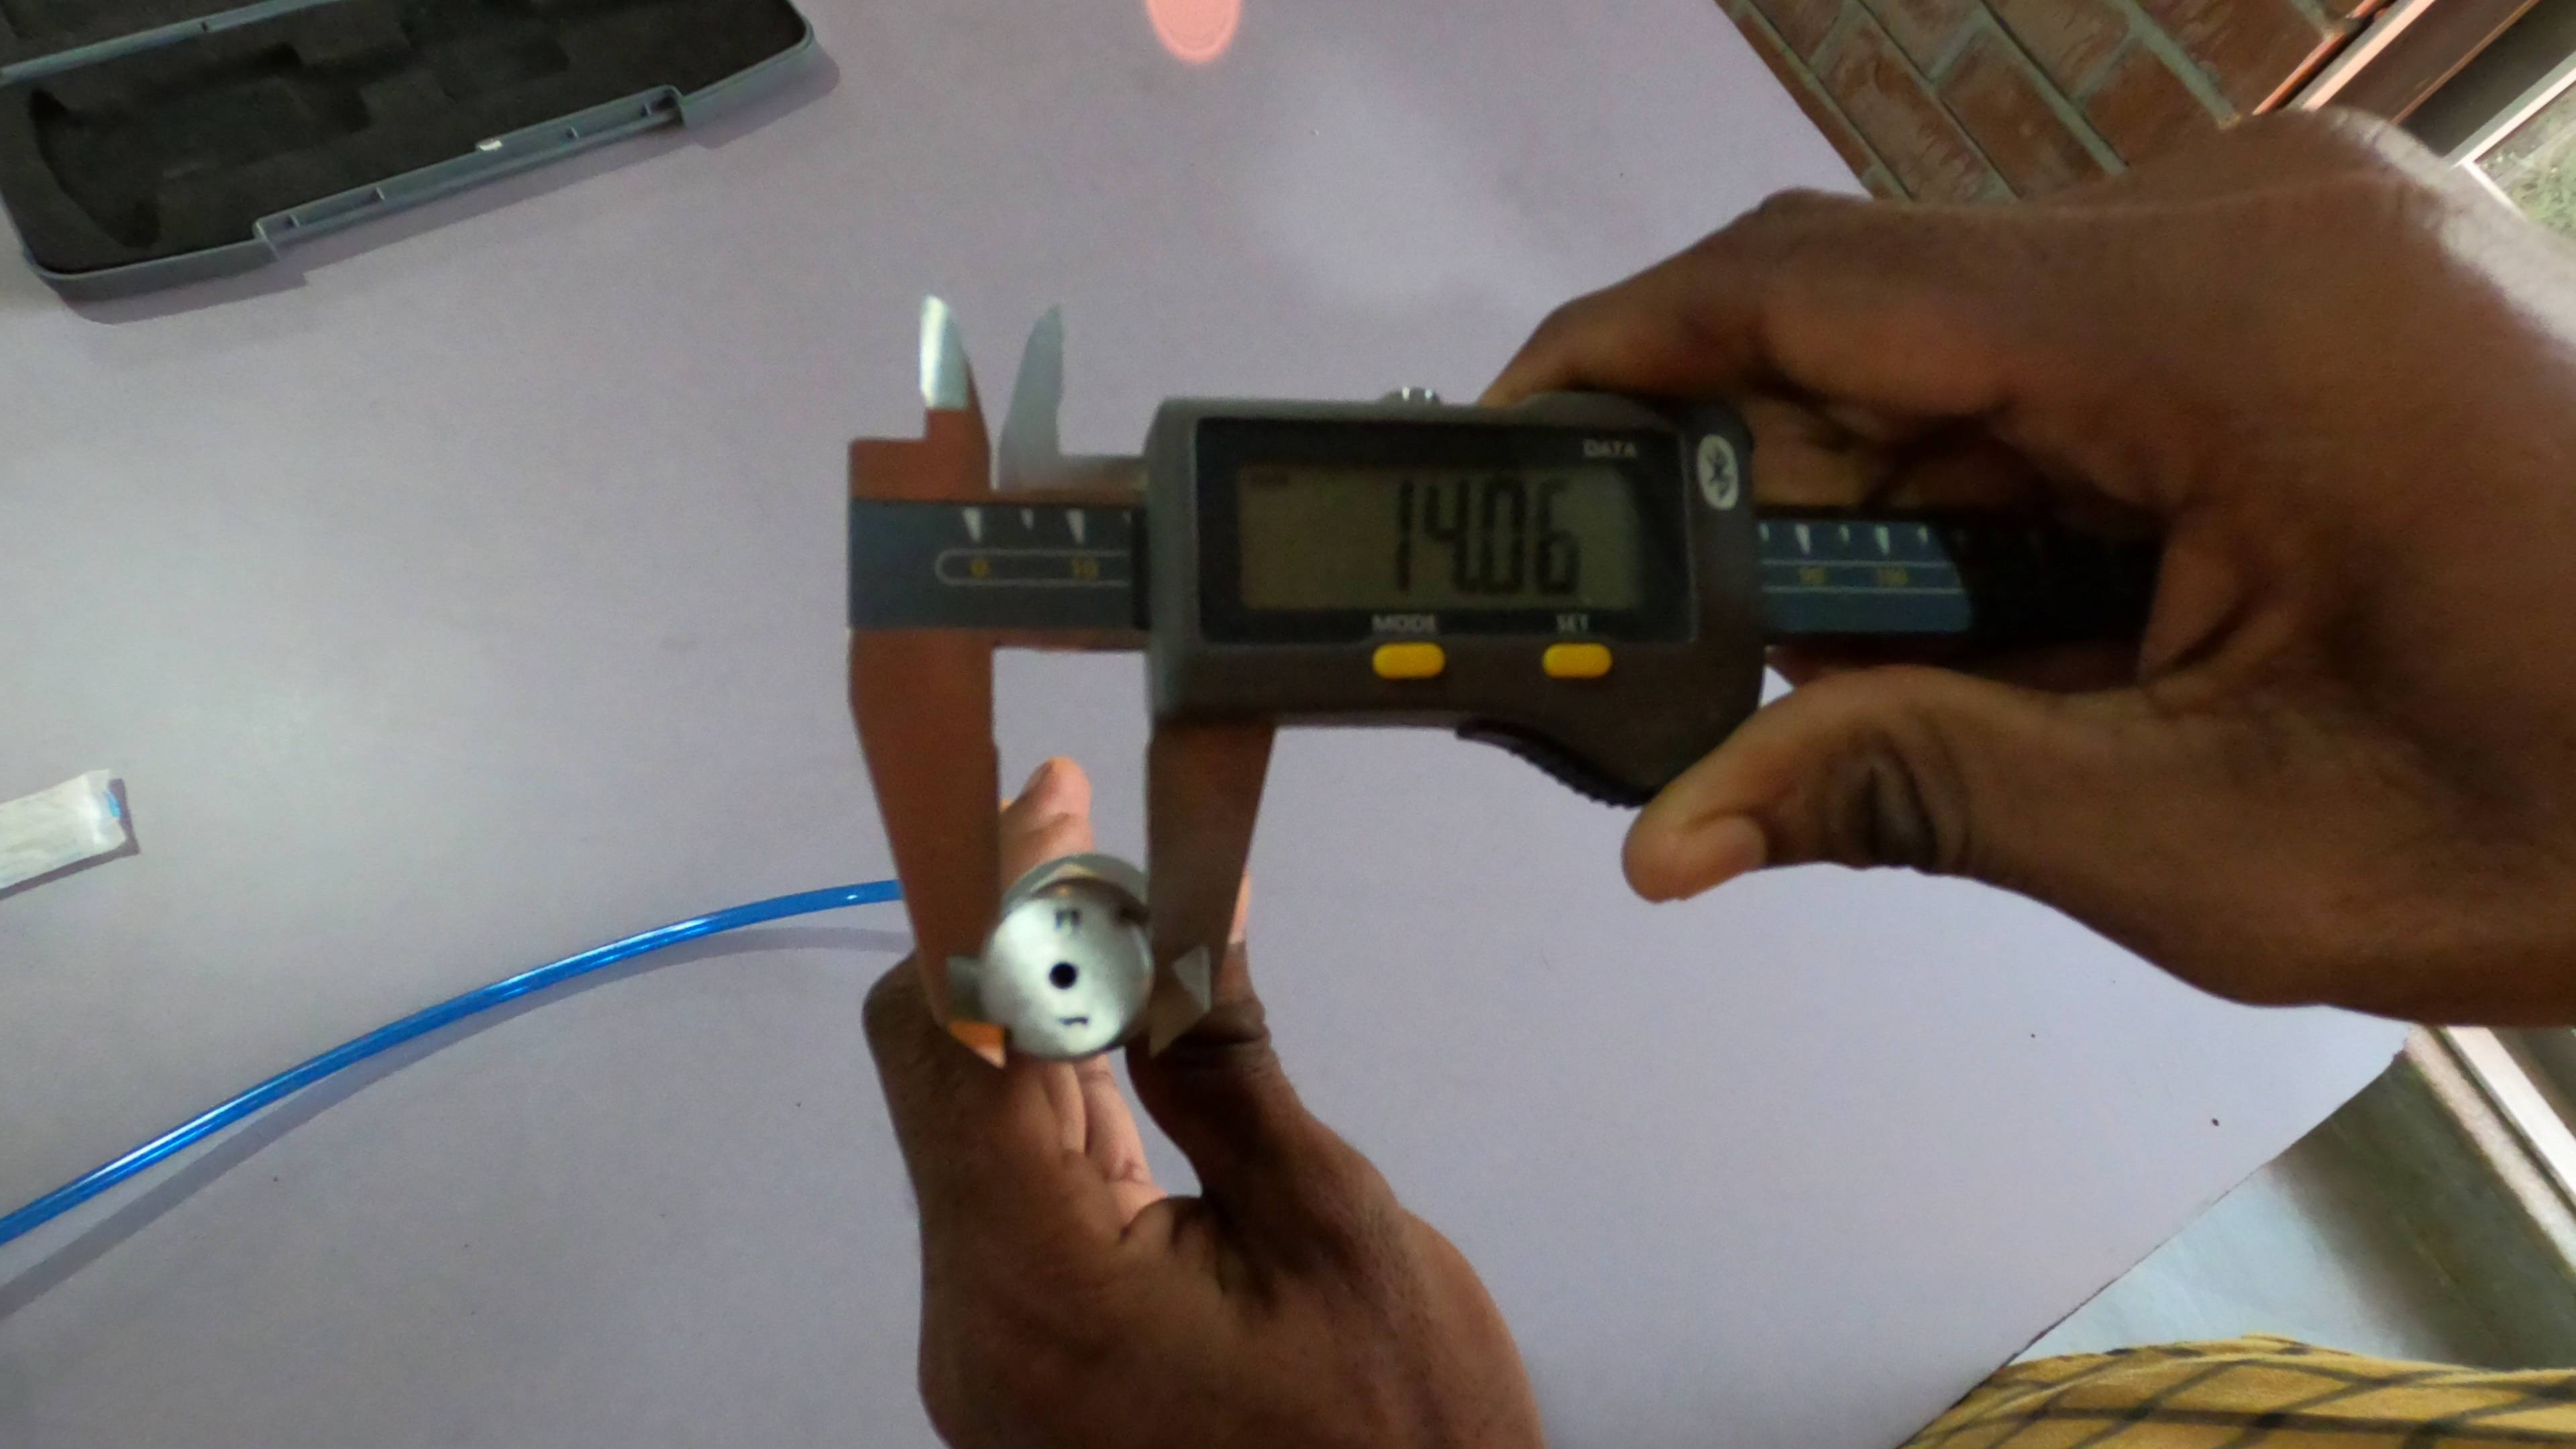vernier_caliper: (849, 295, 2120, 1093)
